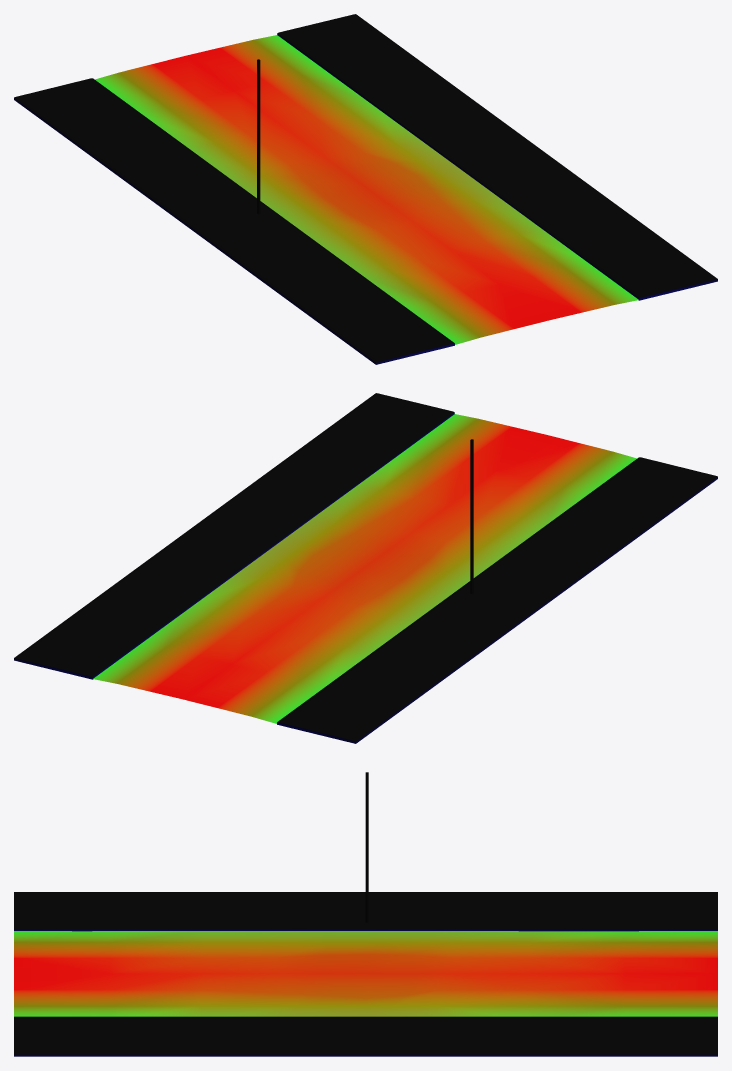
Rendered from Street_Segment.fbx.
3 renders of one model, top to bottom at view 1: azimuth 30°, elevation 25°; view 2: azimuth 150°, elevation 25°; view 3: azimuth 270°, elevation 25°, orthographic. The views are drawn at different scales.
Visible parts, largest first — view 1: Street_Segment; view 2: Street_Segment; view 3: Street_Segment.
Boxes of the visible parts, x1,y1,x2,y2 form: Street_Segment: (14,14,717,364); Street_Segment: (14,393,717,743); Street_Segment: (14,772,717,1056).
Size of the model in its own units: 15.21 by 6.65 by 27.9.
